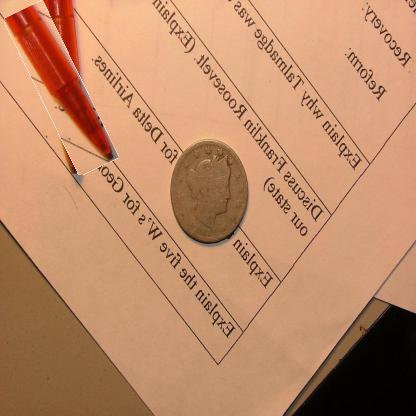Pen: (20, 0, 101, 176)
